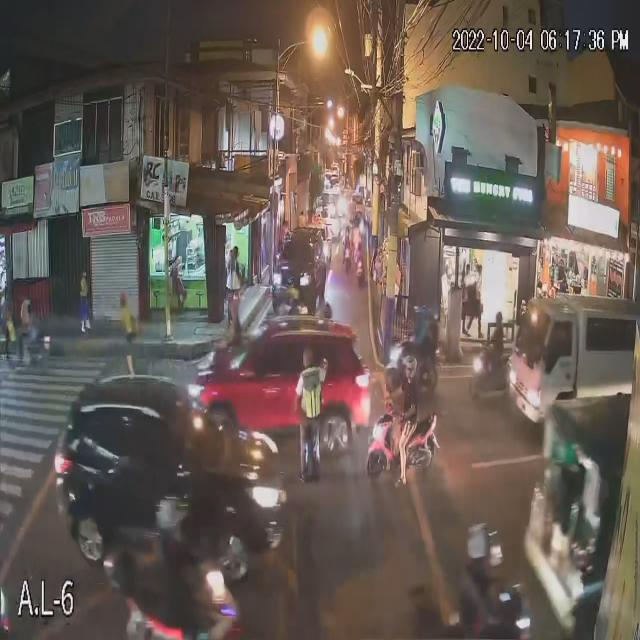helmet: (155, 493, 188, 524), (465, 522, 489, 554), (398, 352, 417, 373)
motorcycle: (416, 519, 533, 639), (116, 565, 244, 639), (364, 397, 440, 483), (389, 342, 437, 415), (17, 327, 54, 368)
rider: (105, 525, 216, 640), (445, 521, 508, 640), (380, 364, 417, 486), (398, 341, 437, 430), (406, 303, 439, 375)
